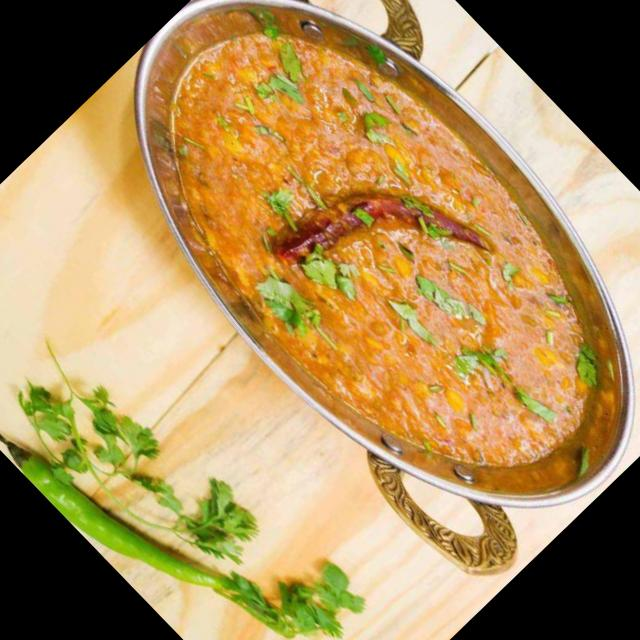dal: (101, 0, 640, 539)
